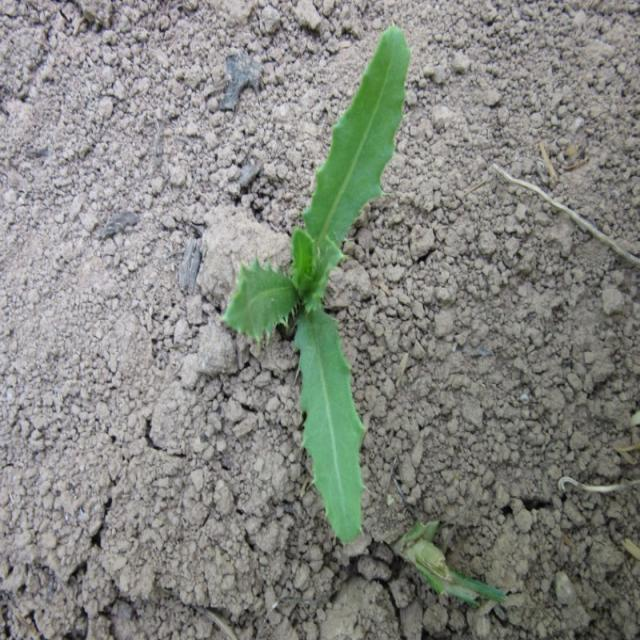field_thistle: (228, 37, 415, 544)
